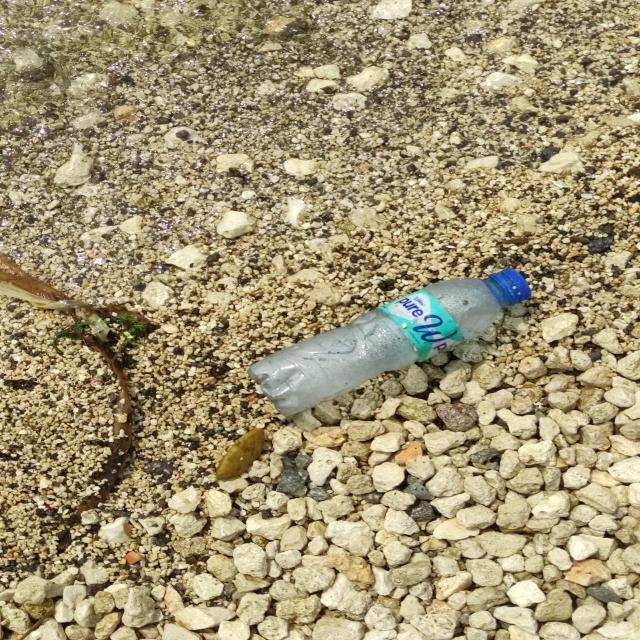plastic_waste: (249, 268, 535, 416)
